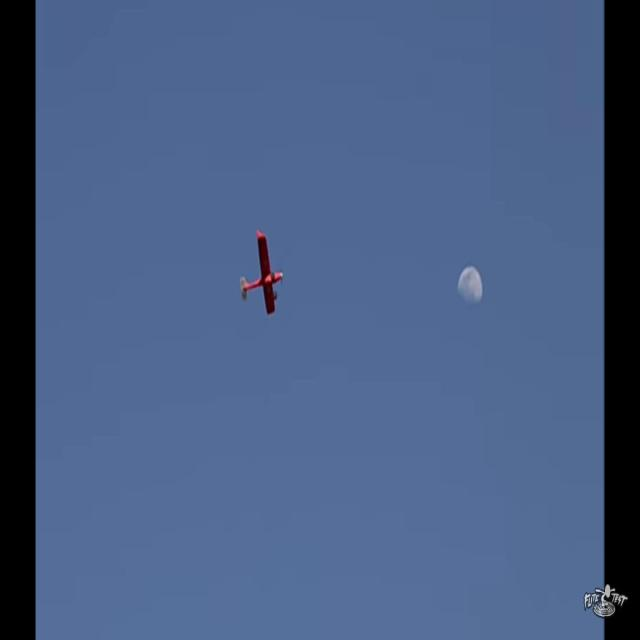iha: (239, 258, 283, 284)
